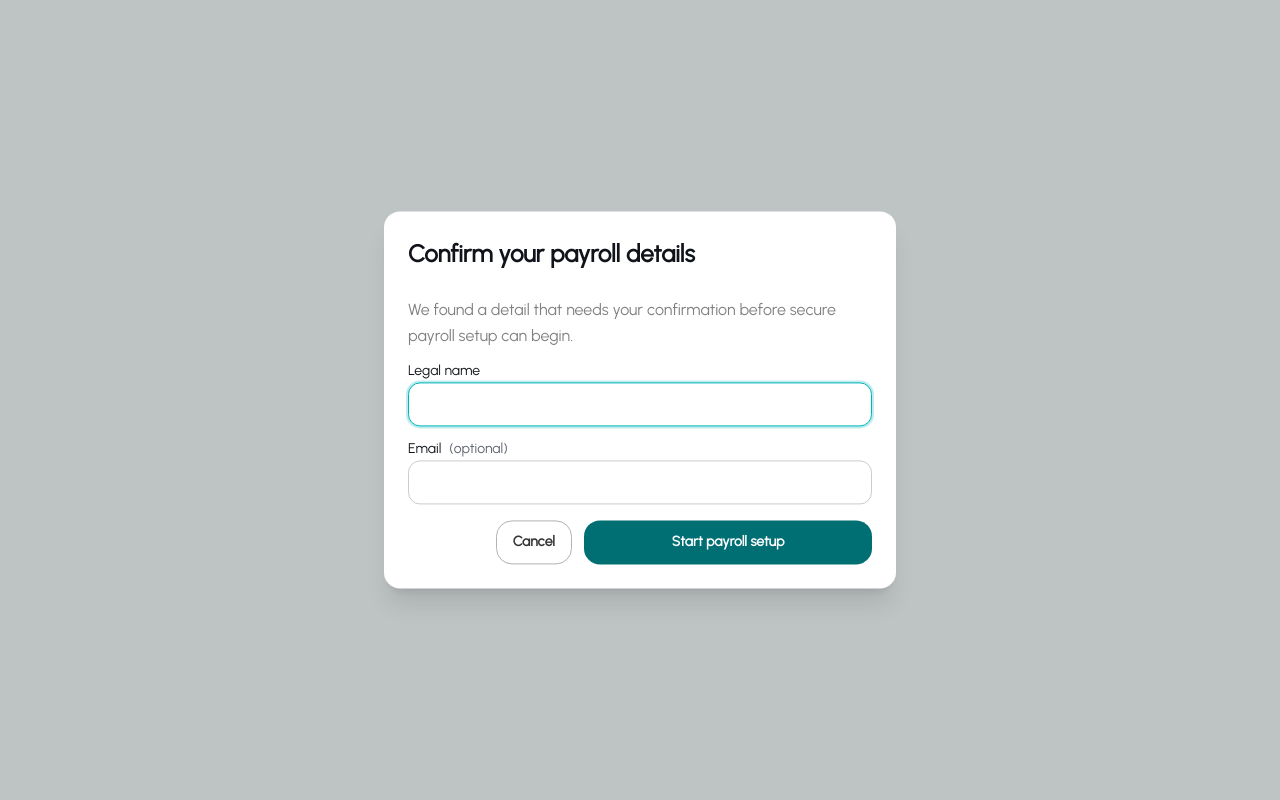
Test: EmployeePayrollPrerequisitesModal › focuses and reports a missing legal name before submission
Click the button "Start payroll setup" at (728, 543), box [584, 521, 872, 565]
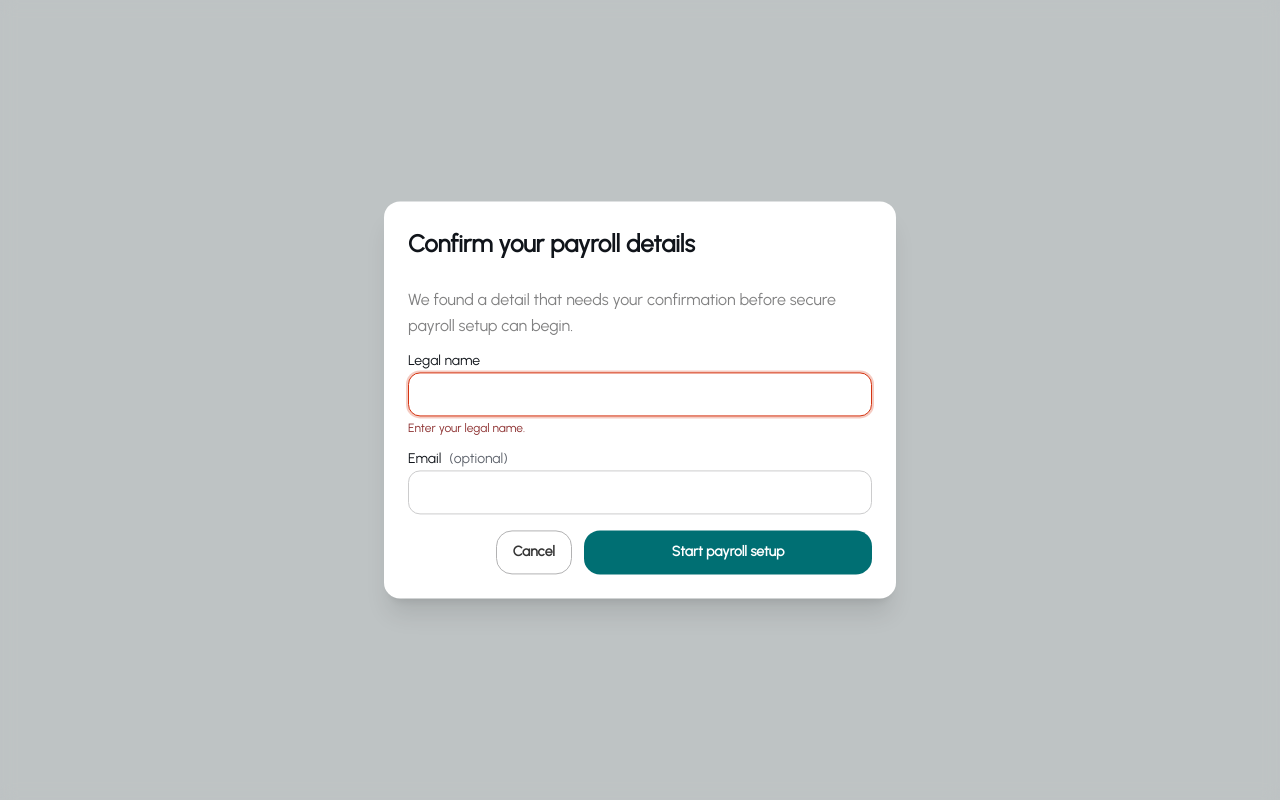
Check: the message reads "Enter your legal name.", box [408, 422, 525, 436]
